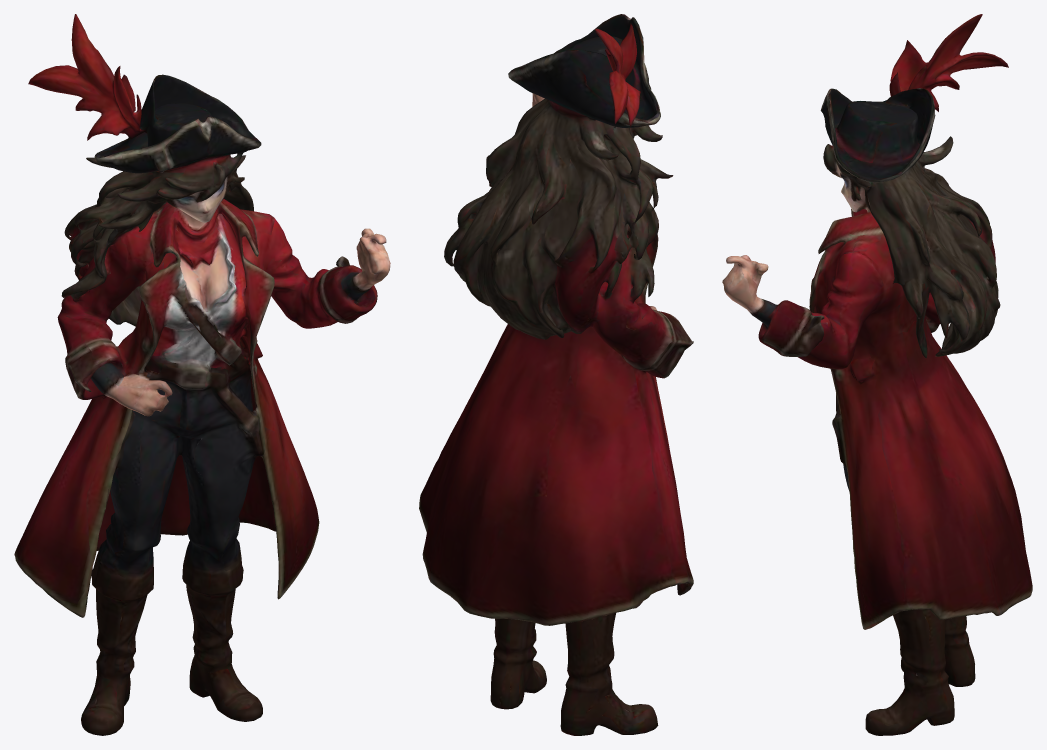
The model's file is barnacle_hunter.glb.
3 renders of one model, left to right at view 1: azimuth 30°, elevation 25°; view 2: azimuth 150°, elevation 25°; view 3: azimuth 270°, elevation 25°, orthographic. The views are drawn at different scales.
Bounding box in the file's own units: 0.3934 × 0.9386 × 0.3992.
Materials: 1 (1 with a texture image).
